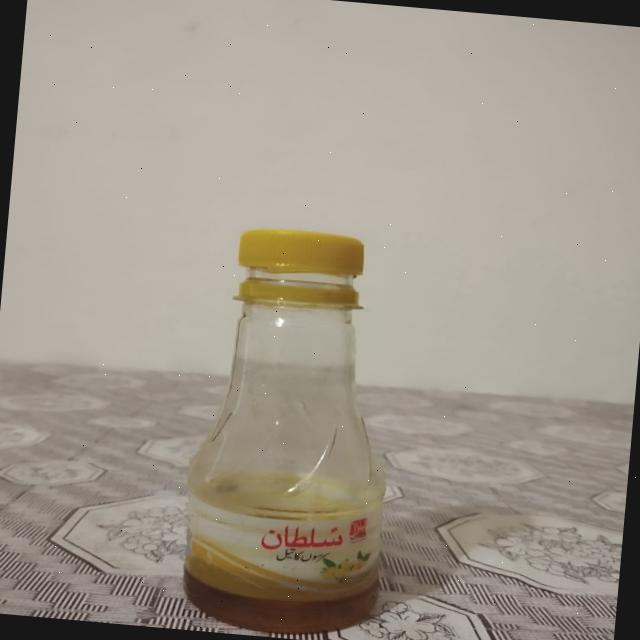bottle: (151, 203, 444, 640)
cap: (217, 218, 377, 322)
label: (165, 478, 405, 616)
